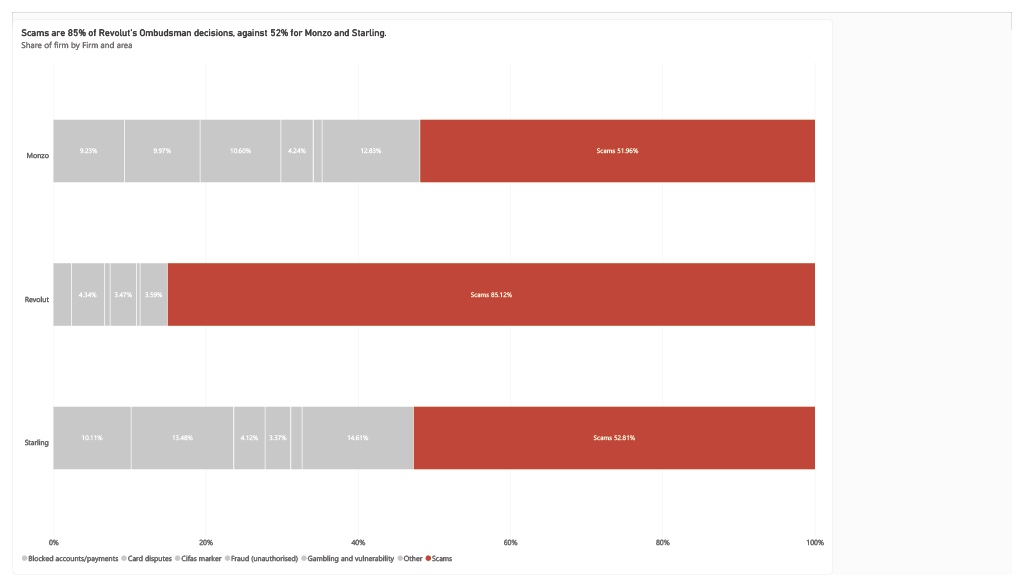

Layout of this report page (visuals, bound fields, positions):
{"tool":"powerbi","page":{"name":"Share of area","canvas":[1920,1080],"ordinal":1},"visuals":[{"type":"hundredPercentStackedBarChart","title":"Scams are 85% of Revolut''s Ombudsman decisions, against 52% for Monzo and Starling.","fields":{"Category":["Customers.Firm"],"Series":["fos_classified_2025.area"],"Y":["Measure.Share of firm"]},"box":[0,13.1,1577.1,1066.5],"z":0}]}

Visuals, with their boxes in screenshot pixels (x1, y1, x2, y2), scaled from the page's 1920x1080 canvas onto the 1024x587 screenshot:
"Scams are 85% of Revolut''s Ombudsman decisions, against 52% for Monzo and Starling." hundredPercentStackedBarChart: (0, 7, 841, 586)
